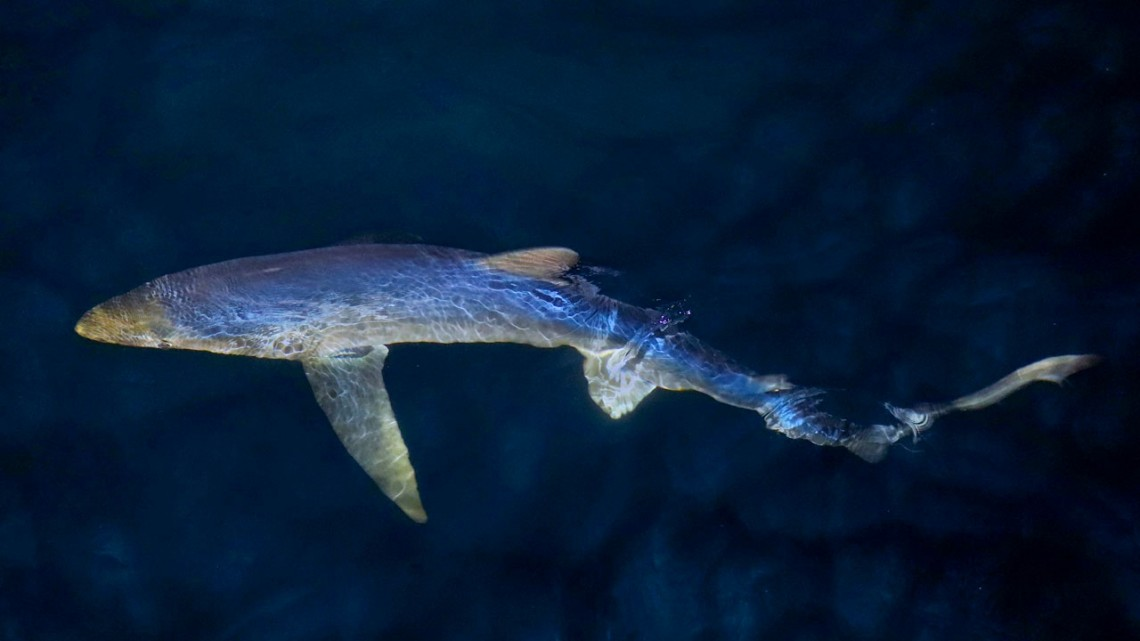shark: (61, 236, 1122, 538)
